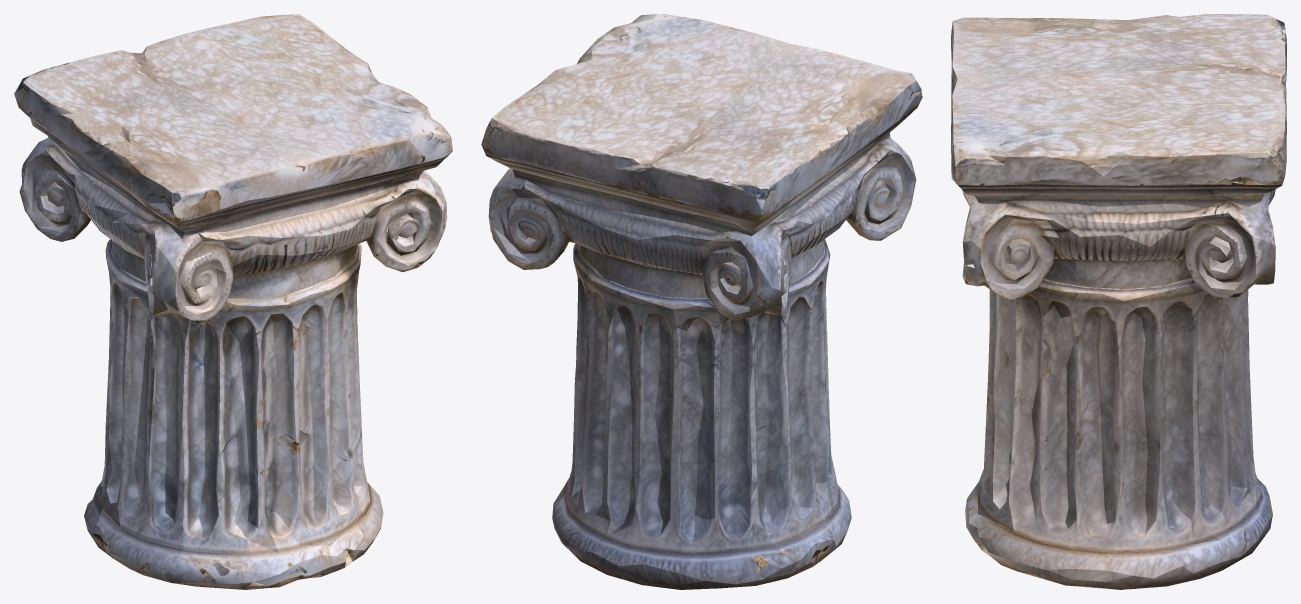
The model's file is colonne_pierre.glb.
3 views of the same model, side by side, from view 1: azimuth 30°, elevation 25°; view 2: azimuth 150°, elevation 25°; view 3: azimuth 270°, elevation 25° (orthographic). The views are drawn at different scales.
Parts seen in each view (by area): view 1: world; view 2: world; view 3: world.
Boxes of the visible parts, x1=… form: world: x1=14, y1=14, x2=452, y2=589; world: x1=481, y1=14, x2=922, y2=589; world: x1=951, y1=14, x2=1286, y2=589.
Bounding box in the file's own units: 0.6988 × 1 × 0.6731.
1 material, 1 textured.
